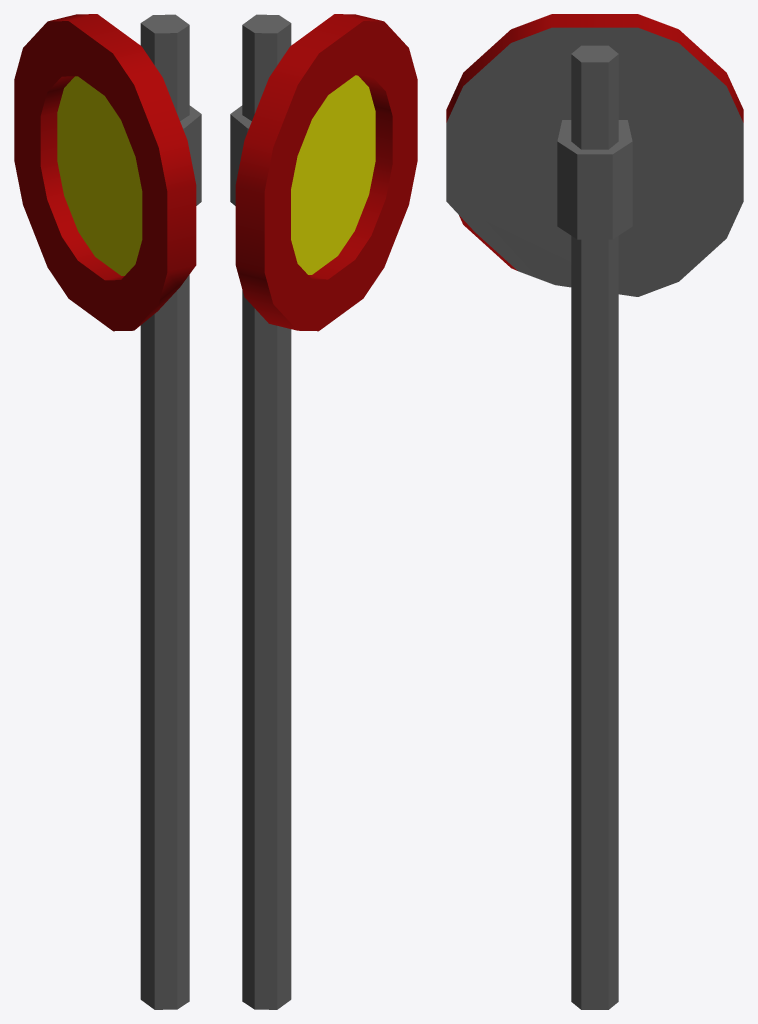
The model's file is SpeedSign.fbx.
3 renders of one model, left to right at view 1: azimuth 30°, elevation 25°; view 2: azimuth 150°, elevation 25°; view 3: azimuth 270°, elevation 25°, orthographic. The views are drawn at different scales.
Parts seen in each view (by area): view 1: polySurface4; view 2: polySurface4; view 3: polySurface4.
Part boxes in pixels (x1,y1,x2,y2): polySurface4: [14, 14, 201, 1009]; polySurface4: [230, 14, 417, 1009]; polySurface4: [446, 14, 743, 1009].
Size of the model in its own units: 24.92 by 230 by 64.95.
